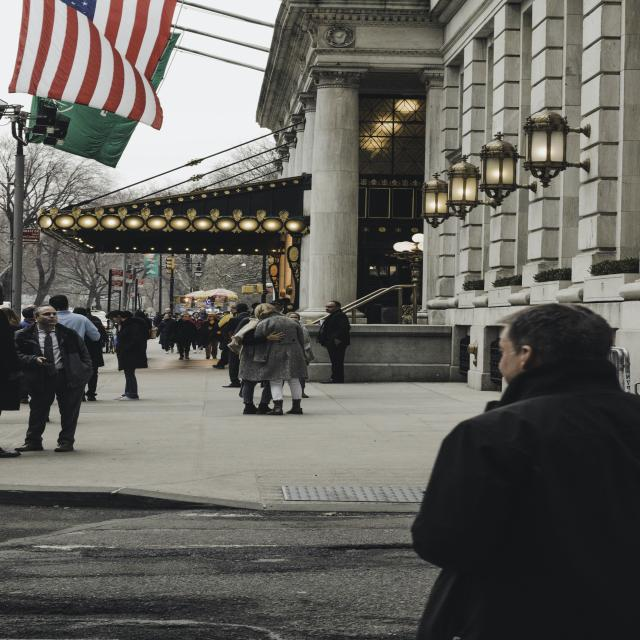adult: (416, 304, 638, 640), (8, 308, 82, 459), (253, 304, 309, 414), (109, 311, 149, 400), (319, 300, 352, 384), (170, 314, 195, 360), (201, 313, 218, 360)
